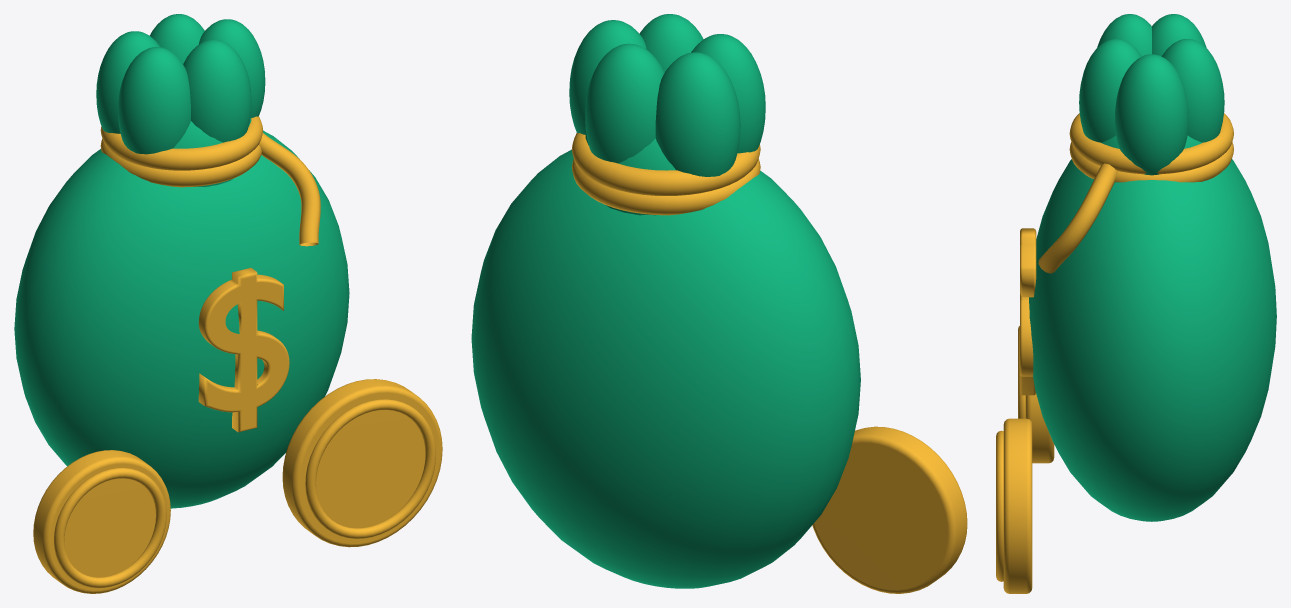
File: money-bag.glb
3 views of the same model, side by side, from view 1: azimuth 30°, elevation 25°; view 2: azimuth 150°, elevation 25°; view 3: azimuth 270°, elevation 25° (orthographic). The views are drawn at different scales.
Parts seen in each view (by area): view 1: Plump green sack, Right coin, Left coin, Embossed dollar, Gathered cloth lobe 3, Gathered cloth lobe 4, Right coin rim, Left coin rim, Gold neck rope.001, Gathered cloth lobe 2, Gold rope loose end, Gold neck rope (+3 smaller); view 2: Plump green sack, Left coin, Gathered cloth lobe 2, Gathered cloth lobe 1, Gold neck rope.001, Gathered cloth lobe 3, Gold neck rope, Gathered cloth lobe 0, Gathered cloth lobe 4, Gathered sack neck; view 3: Plump green sack, Gathered cloth lobe 0, Right coin, Gathered cloth lobe 1, Gathered cloth lobe 4, Gold neck rope.001, Gold rope loose end, Embossed dollar, Gold neck rope, Gathered cloth lobe 3, Gathered cloth lobe 2, Left coin (+1 smaller).
Part boxes in pixels (x1,y1,x2,y2): Plump green sack: (14, 130, 349, 508); Right coin: (282, 379, 442, 547); Left coin: (33, 450, 170, 593); Embossed dollar: (198, 268, 289, 432); Gathered cloth lobe 3: (118, 47, 190, 154); Gathered cloth lobe 4: (183, 39, 251, 142); Right coin rim: (305, 399, 436, 538); Left coin rim: (54, 468, 166, 587); Gold neck rope.001: (100, 116, 263, 170); Gathered cloth lobe 2: (96, 31, 160, 133); Gold rope loose end: (259, 133, 320, 246); Gold neck rope: (100, 139, 261, 187); Plump green sack: (471, 149, 860, 588); Left coin: (812, 426, 967, 593); Gathered cloth lobe 2: (655, 52, 740, 176); Gathered cloth lobe 1: (585, 43, 664, 163); Gold neck rope.001: (571, 133, 760, 195); Gathered cloth lobe 3: (691, 34, 765, 153); Gold neck rope: (571, 159, 760, 215); Gathered cloth lobe 0: (569, 20, 646, 134); Gathered cloth lobe 4: (639, 14, 703, 72); Gathered sack neck: (585, 134, 675, 215); Plump green sack: (1029, 159, 1276, 521); Gathered cloth lobe 0: (1115, 54, 1188, 175); Right coin: (1003, 418, 1032, 593); Gathered cloth lobe 1: (1162, 39, 1224, 142); Gathered cloth lobe 4: (1079, 39, 1141, 142); Gold neck rope.001: (1069, 113, 1233, 174); Gold rope loose end: (1038, 163, 1117, 273); Embossed dollar: (1020, 228, 1036, 395); Gold neck rope: (1069, 142, 1233, 182); Gathered cloth lobe 3: (1097, 14, 1151, 56); Gathered cloth lobe 2: (1152, 14, 1206, 56); Left coin: (1025, 393, 1054, 463).
Size of the model in its own units: 3.3 by 3.97 by 2.04.
